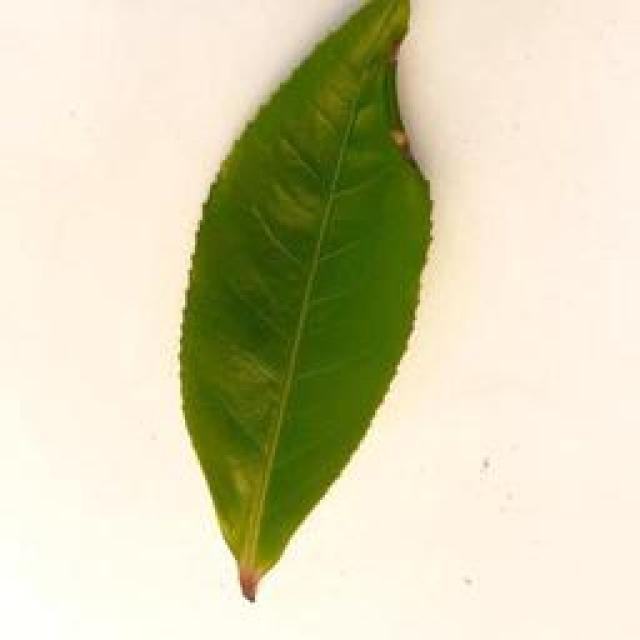Healthy: (170, 0, 450, 613)
